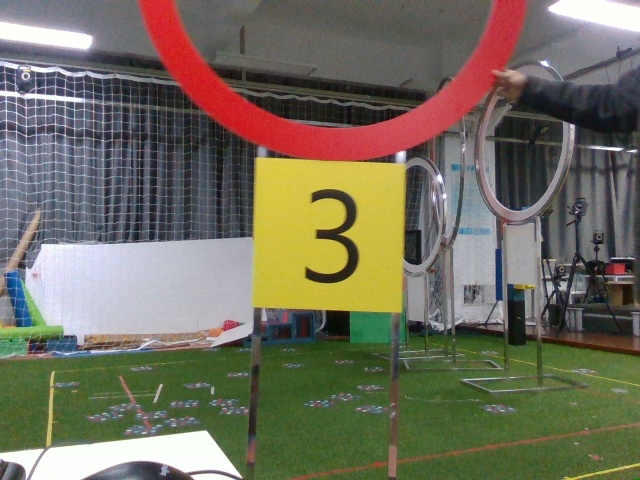target: (257, 170, 398, 300)
